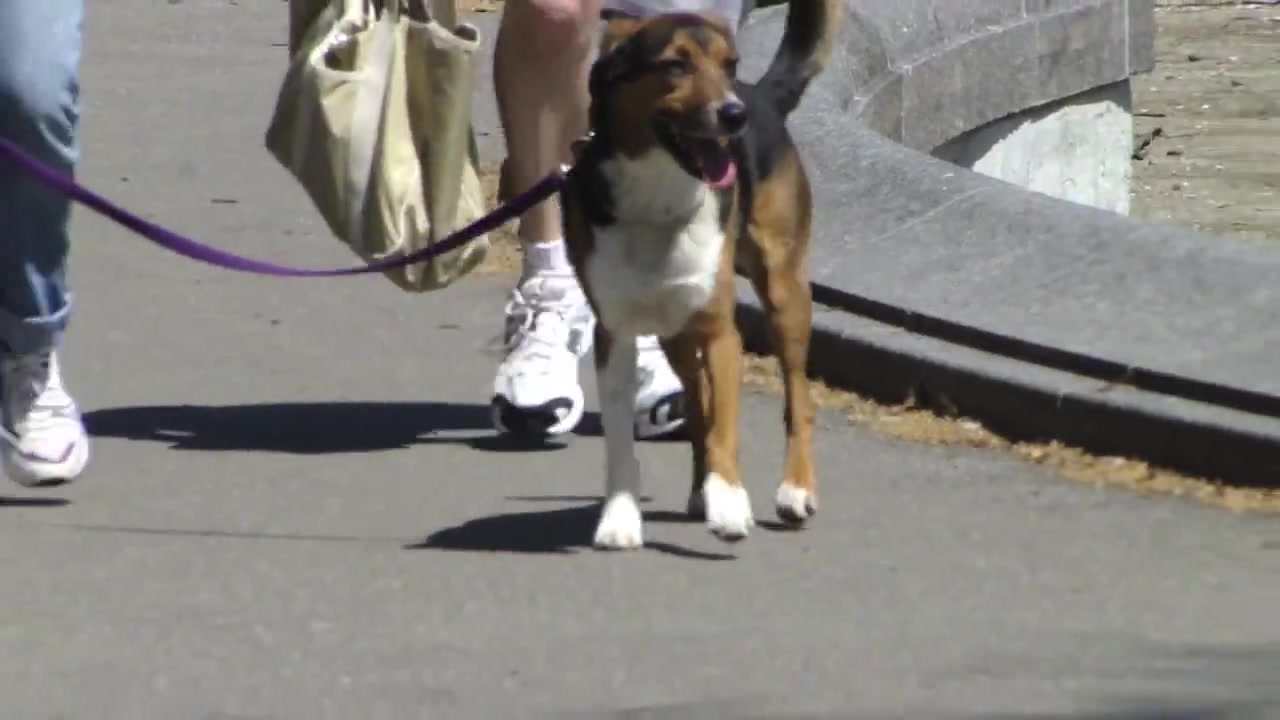dog: (560, 1, 847, 554)
